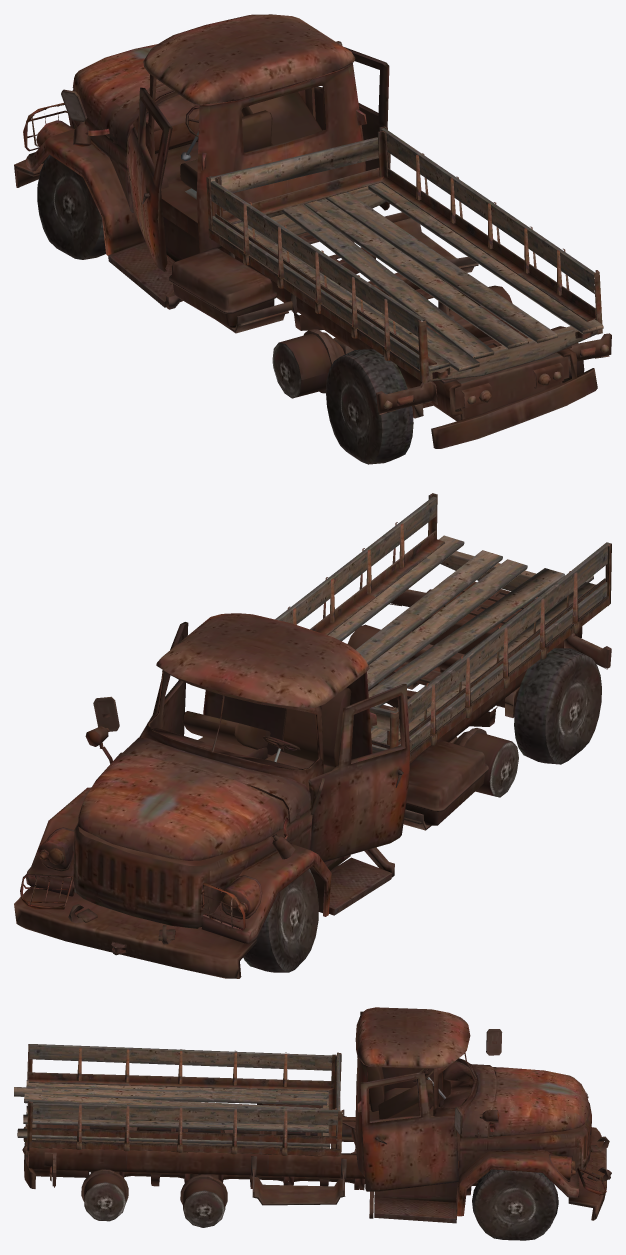
The model's file is truck_wreck_junk.glb.
3 views of the same model, one above another, from view 1: azimuth 30°, elevation 25°; view 2: azimuth 150°, elevation 25°; view 3: azimuth 270°, elevation 25° (orthographic). The views are drawn at different scales.
Visible parts, largest first — view 1: truck_wreck_junk; view 2: truck_wreck_junk; view 3: truck_wreck_junk.
Part boxes in pixels (<box>): truck_wreck_junk: <box>14,14,611,464</box>; truck_wreck_junk: <box>14,493,611,978</box>; truck_wreck_junk: <box>14,1007,611,1240</box>.
Bounding box in the file's own units: 3.1 × 2.75 × 8.45.
Materials: 2 (2 with a texture image).
